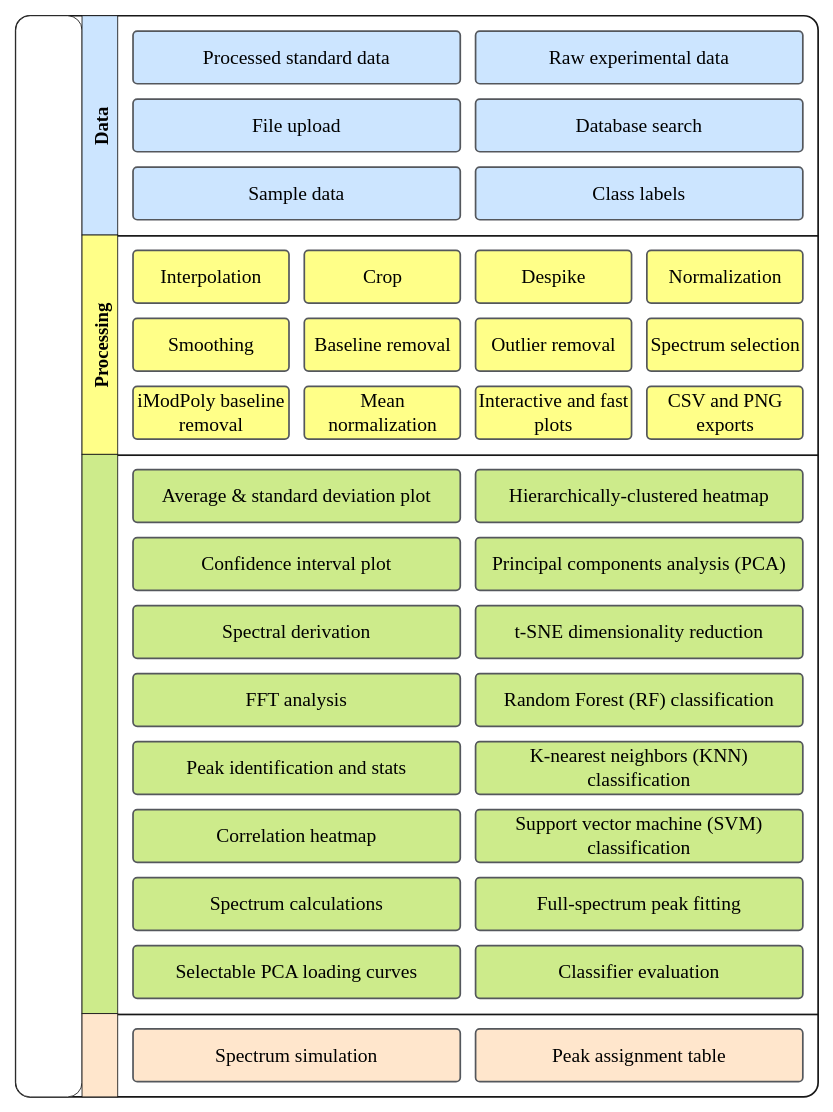
Some shapes in this 833 by 1112 pixel diagram are drawn without their labels. The centre of each missing label's shape, as x and y in pixels:
Analytics: (99,733)
SpectraGuru Ecosystem: (48,556)
Toolbox: (99,1055)
